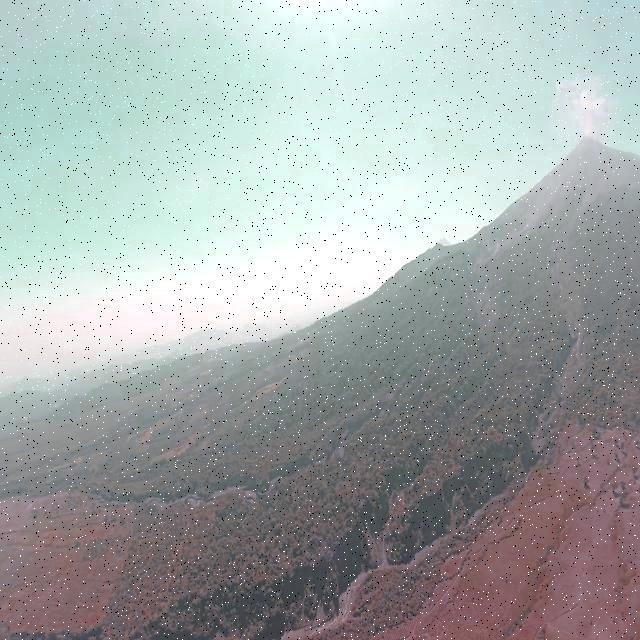Plume: (567, 84, 611, 136)
Summit: (574, 130, 602, 150)
